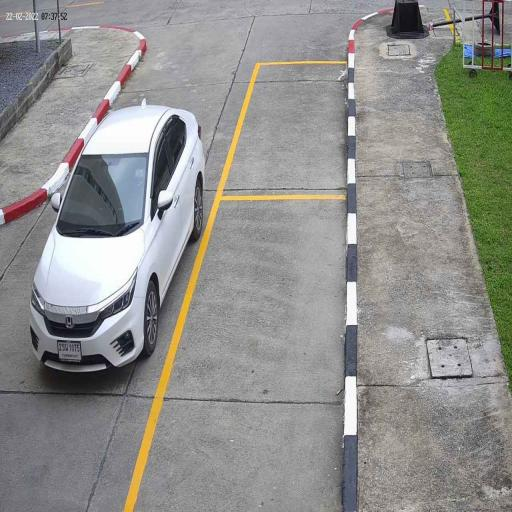car: (28, 104, 206, 375)
